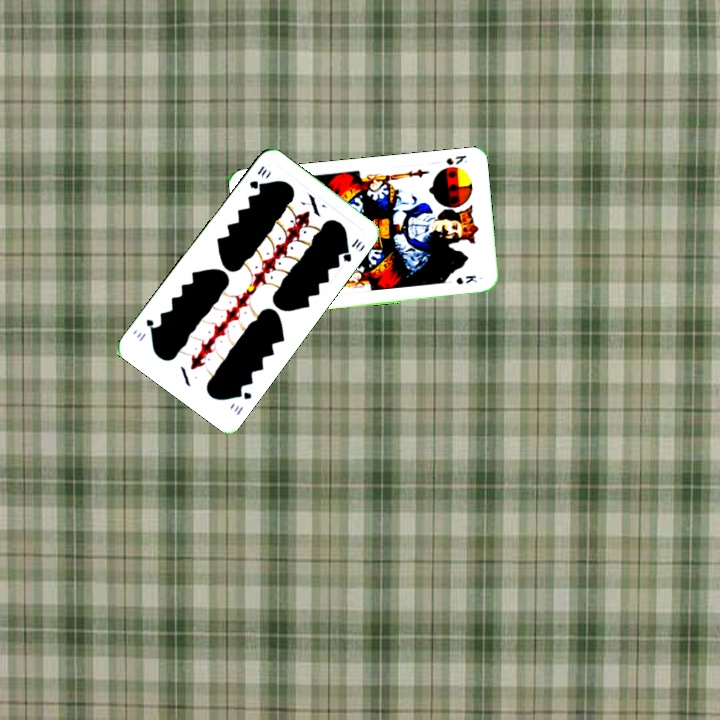G10: (229, 386, 254, 418), (245, 162, 269, 192)
SK: (442, 151, 470, 167)
